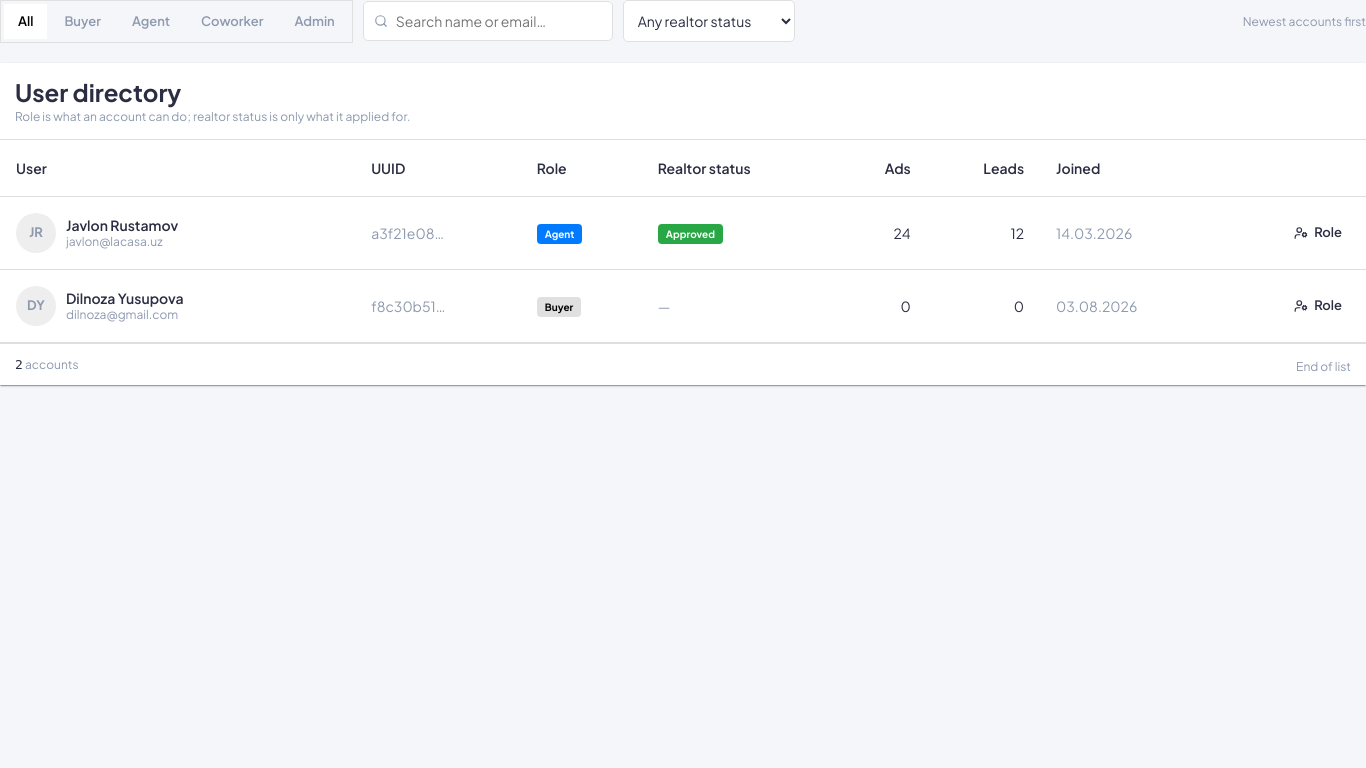
Test case: UsersScreen › changing a role › gives promotion to admin the strongest confirmation on the screen
Expected: the text "Dilnoza Yusupova" is shown, [66,289,184,307]
Click the button with aria-label "Change role for Dilnoza Yusupova" at (1318, 306), box [1286,290,1350,321]
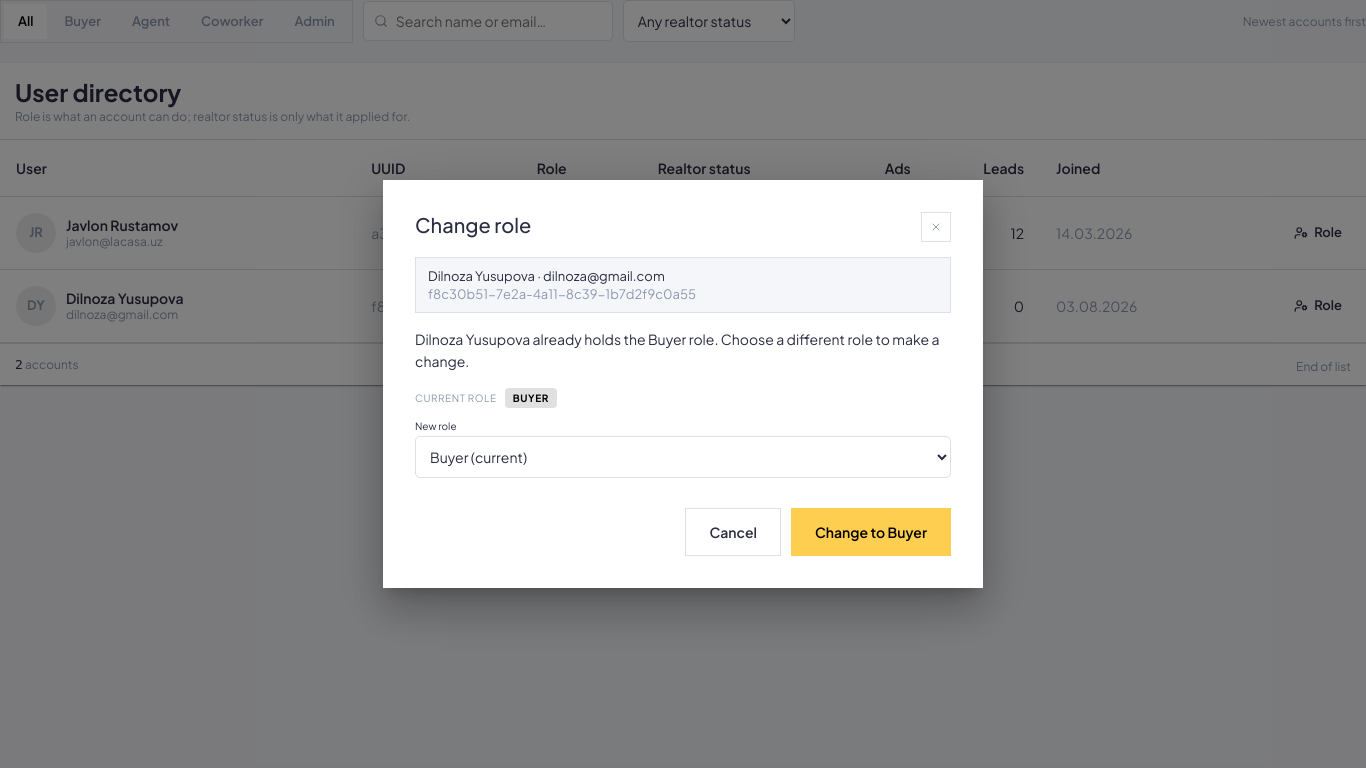
Select "Admin" in the dropdown labelled "New role" at (683, 457), box [415,436,951,478]
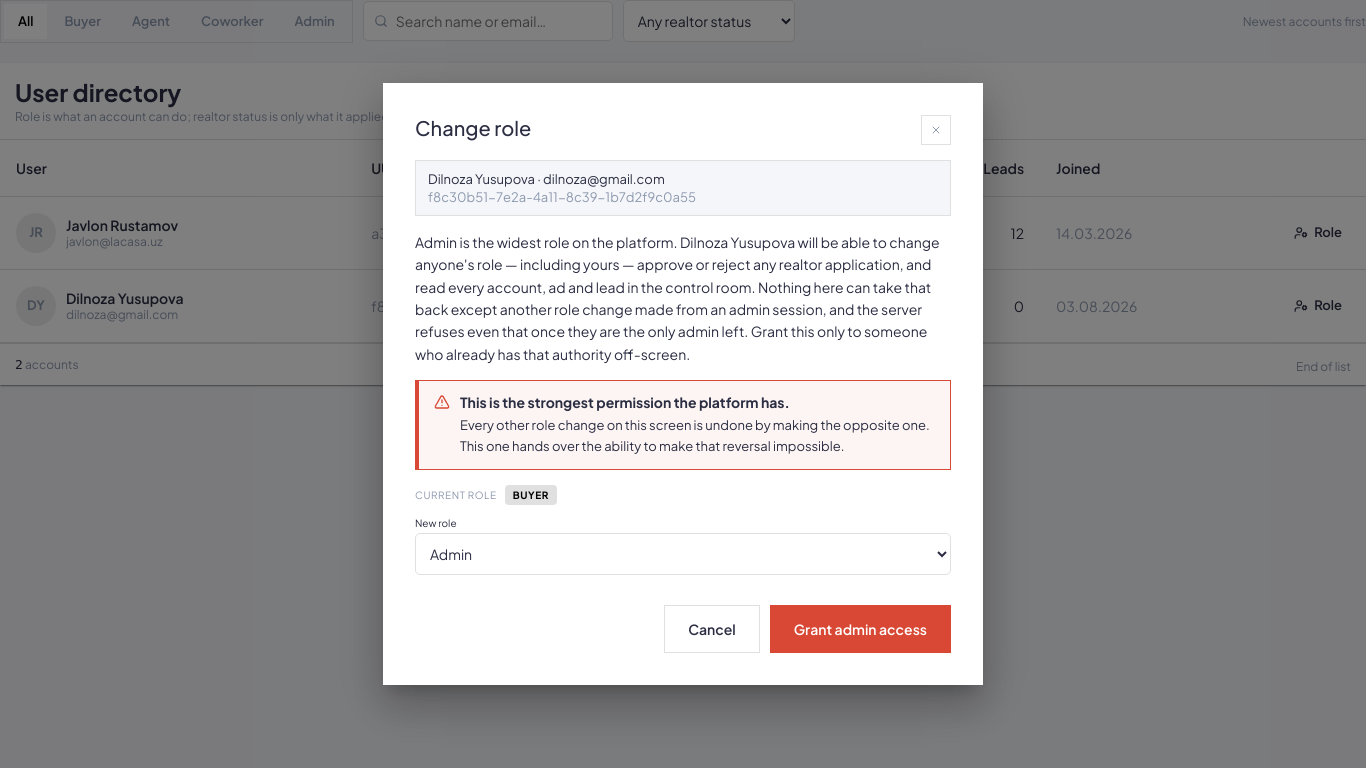
Now the text "This is the strongest permission the platform has." is shown, box [460,393,790,411]
Now the text "change anyone's role — including yours" is shown, box [415,233,940,363]
Now the button "Grant admin access" is shown, box [770,605,951,653]
